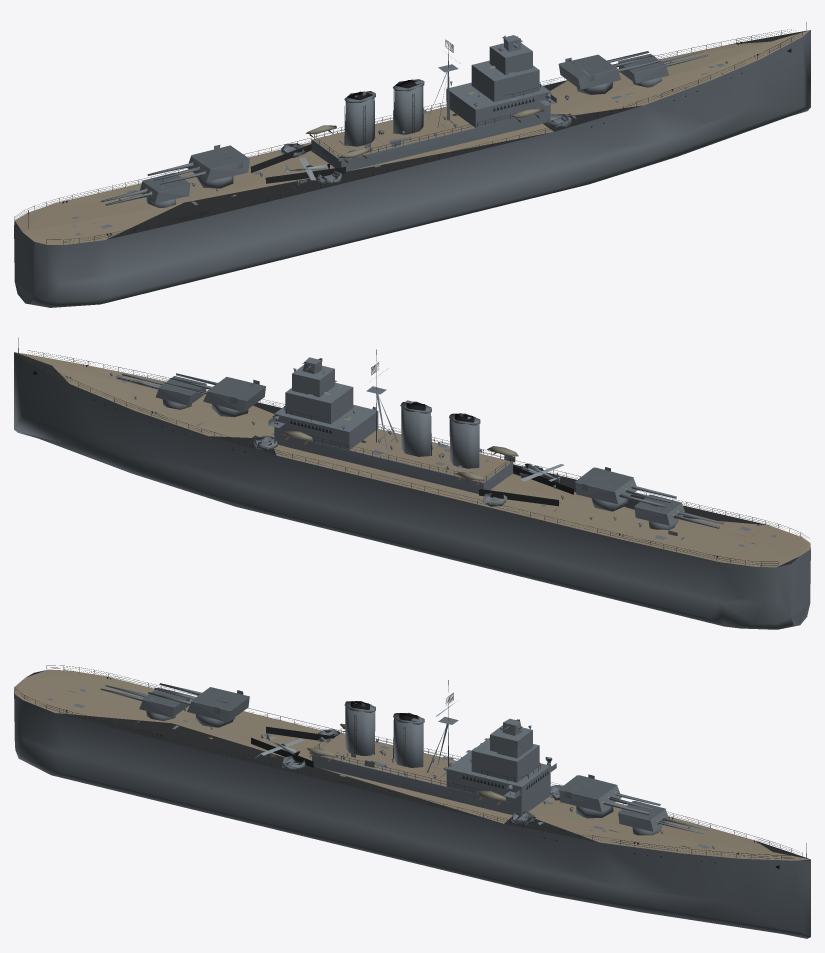
Rendered from pensacola_lod.glb.
The picture shows the model from 3 angles, top to bottom: view 1: azimuth 30°, elevation 25°; view 2: azimuth 150°, elevation 25°; view 3: azimuth 330°, elevation 25°; orthographic projection.
Visible parts, largest first — view 1: pensacola_lod; view 2: pensacola_lod; view 3: pensacola_lod.
Boxes of the visible parts, x1=… form: pensacola_lod: x1=14, y1=22, x2=810, y2=307; pensacola_lod: x1=14, y1=337, x2=810, y2=629; pensacola_lod: x1=14, y1=665, x2=810, y2=938.
Bounding box in the file's own units: 179 × 37.46 × 20.33.
